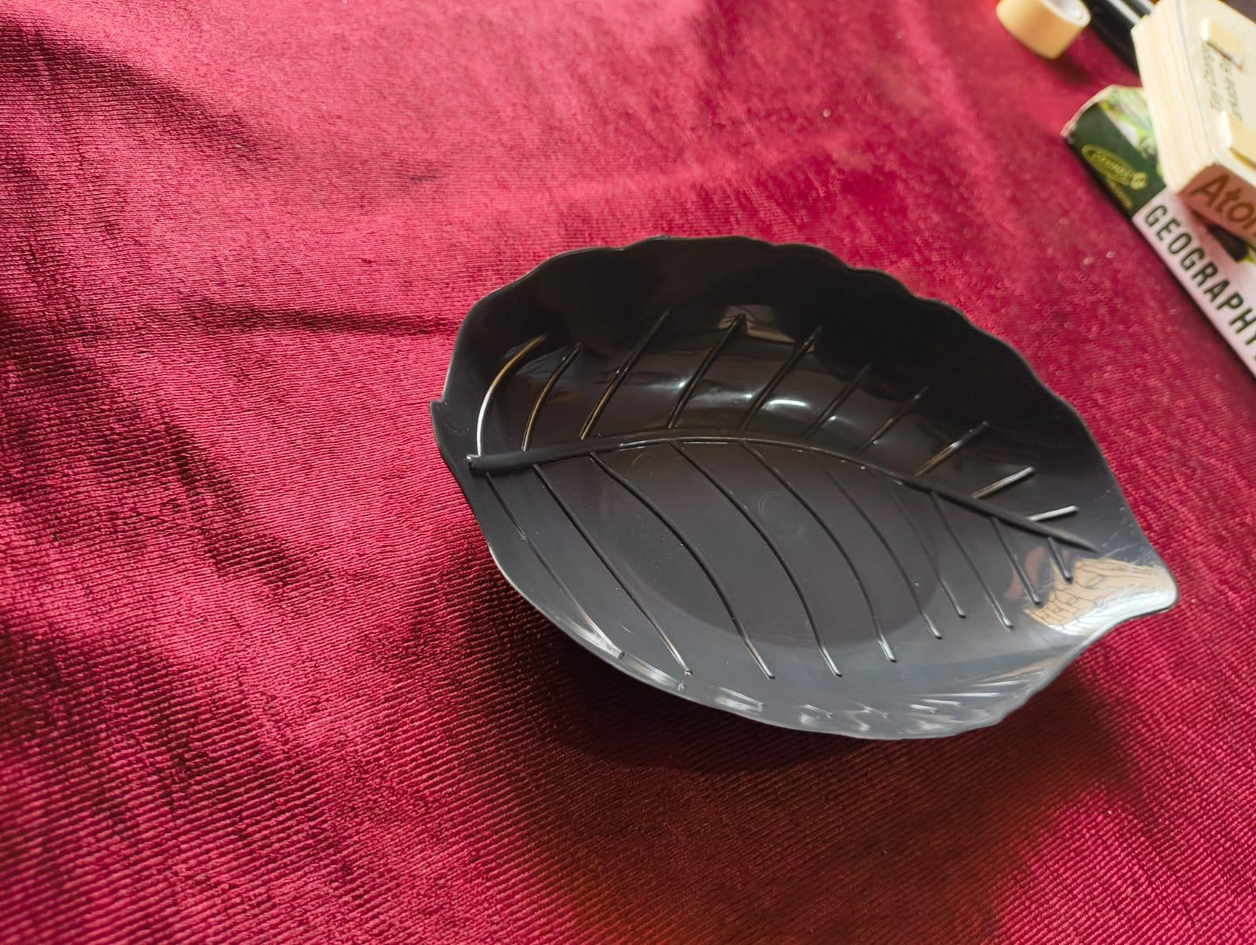plate: (385, 227, 1185, 745)
